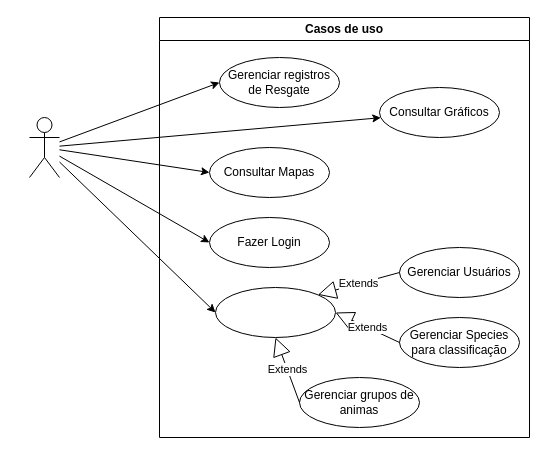
Image size: 547x455. Some labels were removed from this diagram. The centre of each missing label's shape, as x and y in pixels:
"Agente da Fujama" belongs at [44,147].
"Gerenciar configurações" belongs at [275,312].
